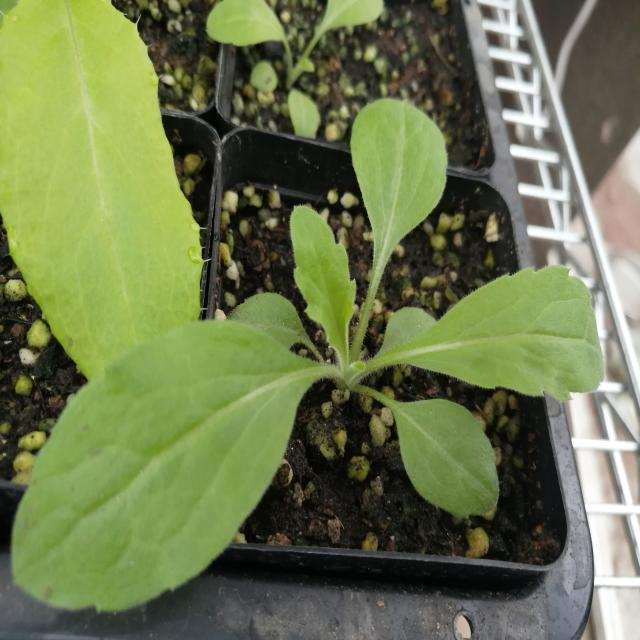horseweed: (22, 72, 598, 622)
